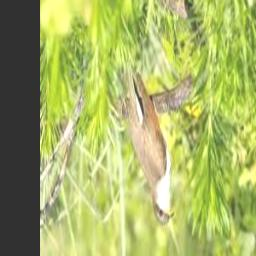Cuckoo: (125, 60, 175, 225)
